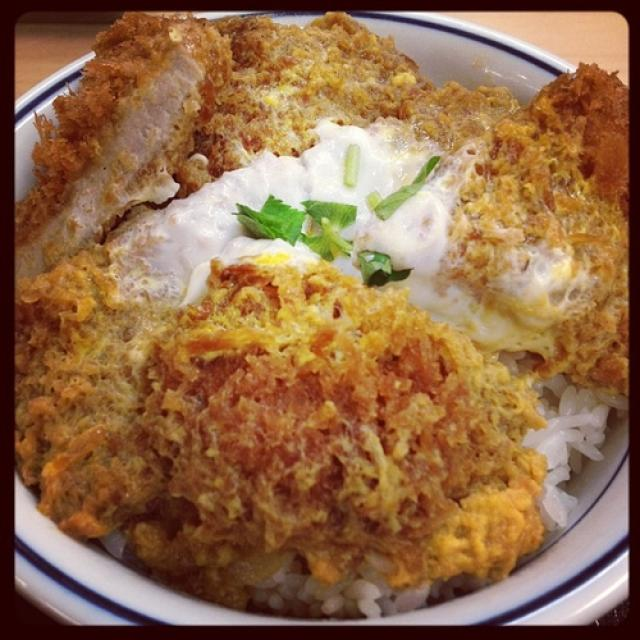牛肉菜式: (27, 28, 621, 616)
